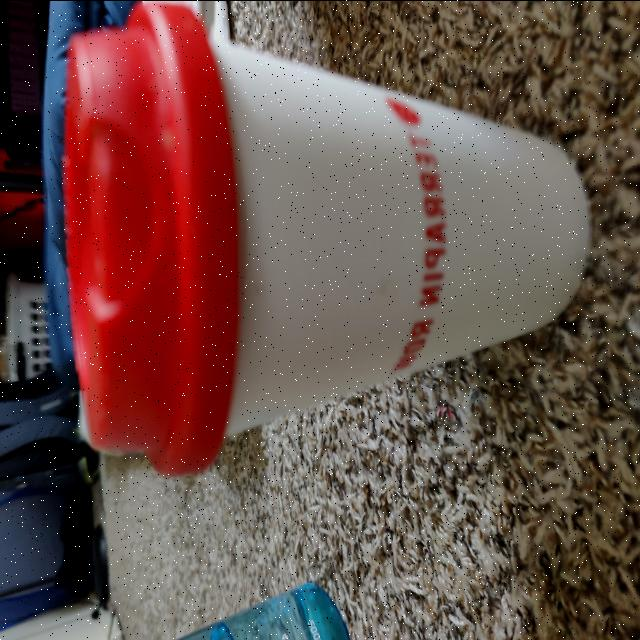mug: (75, 0, 583, 461)
